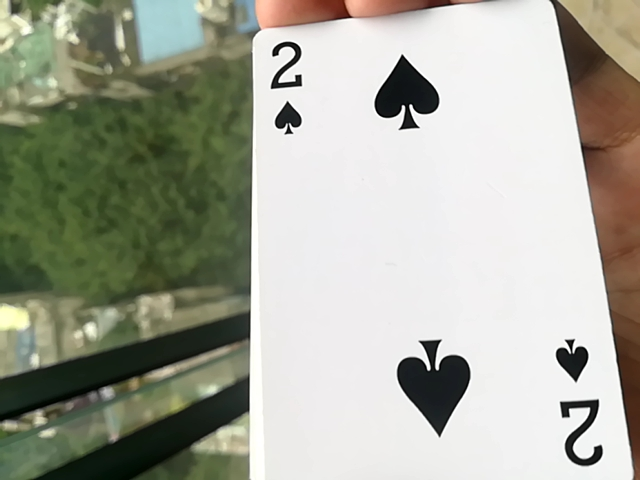ht 2: (239, 5, 631, 480)
